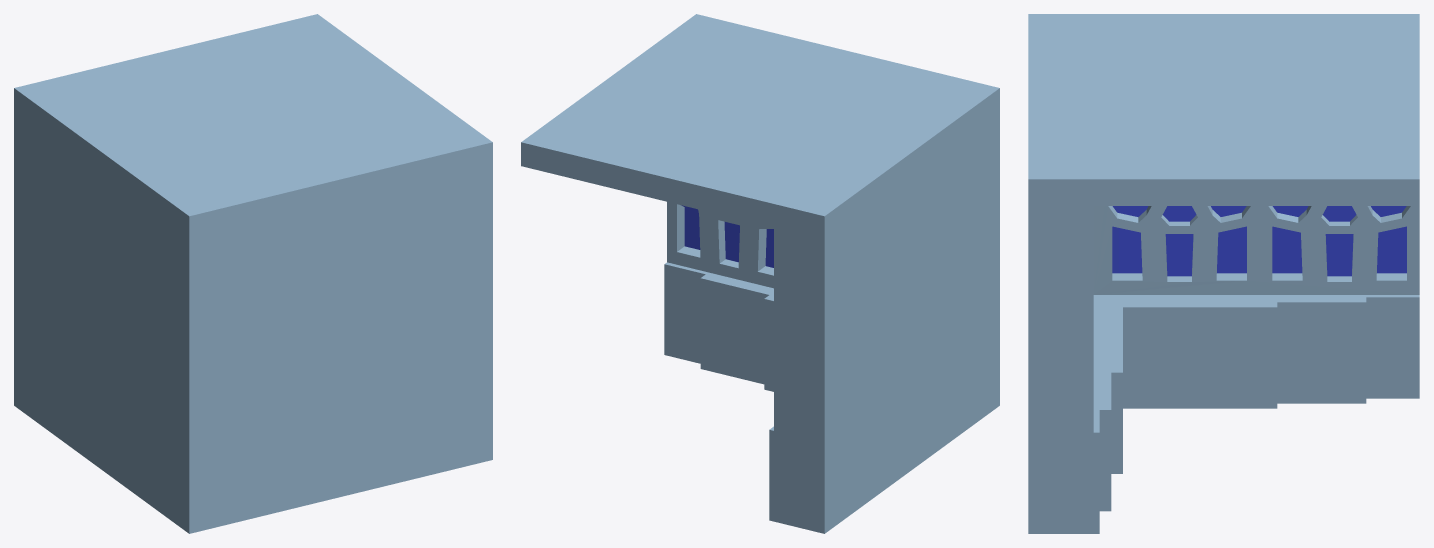
Rendered from EspacioRedSocialEsquinaCierreInteriorBajoNI.gltf.
The picture shows the model from 3 angles, left to right: view 1: azimuth 30°, elevation 25°; view 2: azimuth 150°, elevation 25°; view 3: azimuth 270°, elevation 25°; orthographic projection. The views are drawn at different scales.
Parts seen in each view (by area): view 1: Cubo.35; view 2: Cubo.35; view 3: Cubo.35.
Part boxes in pixels (x1,y1,x2,y2): Cubo.35: [14, 14, 492, 533]; Cubo.35: [521, 14, 999, 533]; Cubo.35: [1028, 14, 1419, 533].
Size of the model in its own units: 2 by 2 by 2.
Materials: 1 (1 with a texture image).
